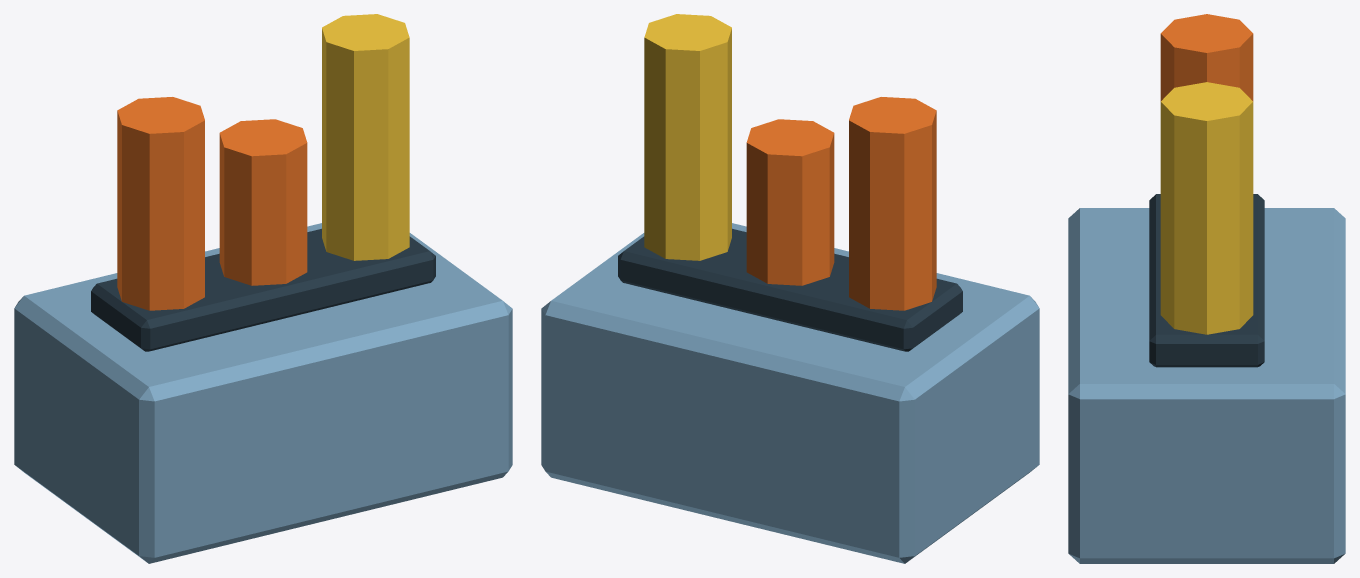
File: toy_factory.glb
3 views of the same model, side by side, from view 1: azimuth 30°, elevation 25°; view 2: azimuth 150°, elevation 25°; view 3: azimuth 270°, elevation 25° (orthographic).
Visible parts, largest first — view 1: toy_factory; view 2: toy_factory; view 3: toy_factory.
Part boxes in pixels (x1,y1,x2,y2): toy_factory: [14, 14, 512, 563]; toy_factory: [541, 14, 1039, 563]; toy_factory: [1068, 14, 1345, 563].
Size of the model in its own units: 1.9 by 2.03 by 1.2.
